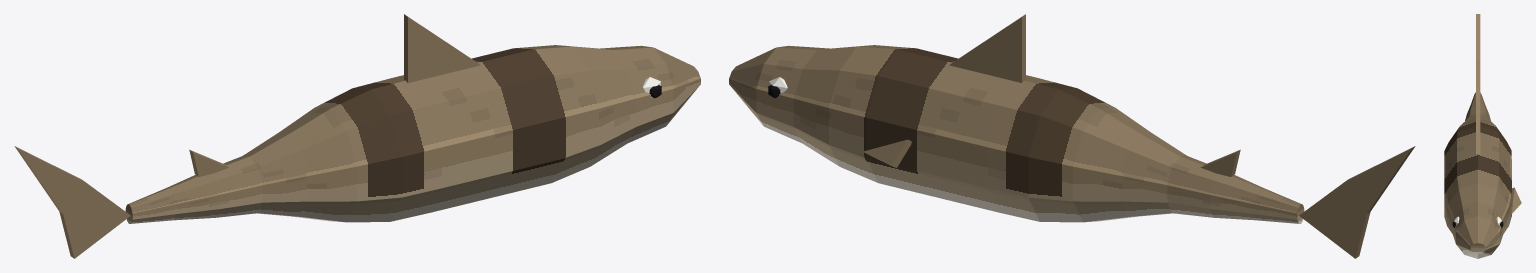
File: port_jackson_shark.glb
3 views of the same model, side by side, from view 1: azimuth 30°, elevation 25°; view 2: azimuth 150°, elevation 25°; view 3: azimuth 270°, elevation 25° (orthographic). The views are drawn at different scales.
Visible parts, largest first — view 1: fish_port_jackson_shark; view 2: fish_port_jackson_shark; view 3: fish_port_jackson_shark.
Boxes of the visible parts, <box> form: fish_port_jackson_shark: <box>14,14,700,258</box>; fish_port_jackson_shark: <box>729,14,1415,258</box>; fish_port_jackson_shark: <box>1444,14,1521,258</box>.
Size of the model in its own units: 1.2 by 0.334 by 0.2159.
Materials: 4 (1 with a texture image).
